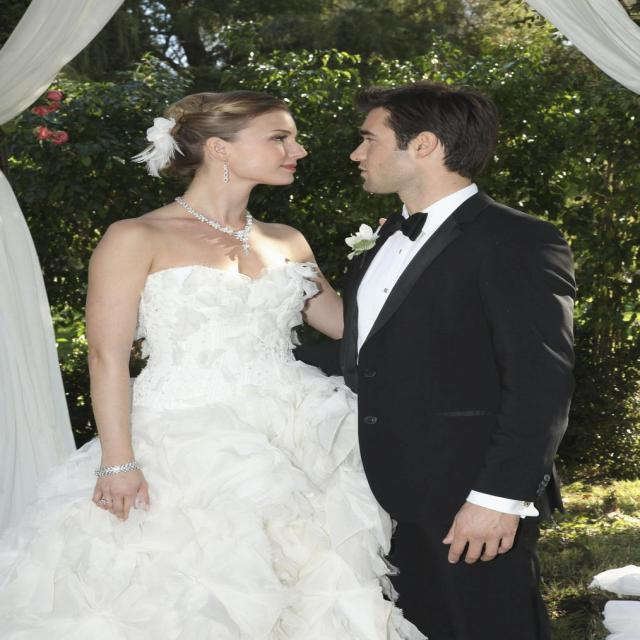no-earmuff: (189, 123, 256, 173), (400, 119, 458, 175)
